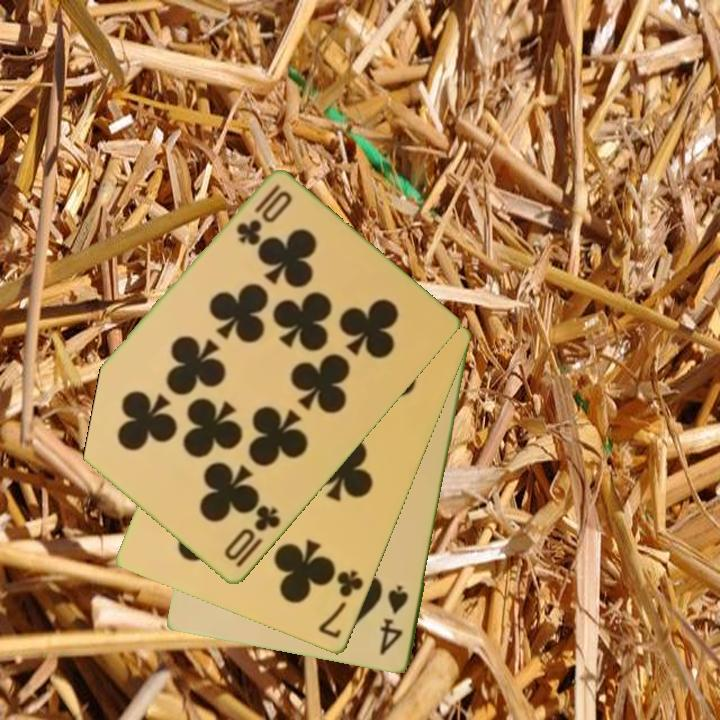10c: (221, 502, 284, 571), (232, 181, 284, 248)
4s: (376, 582, 412, 659)
7c: (315, 566, 367, 642)
